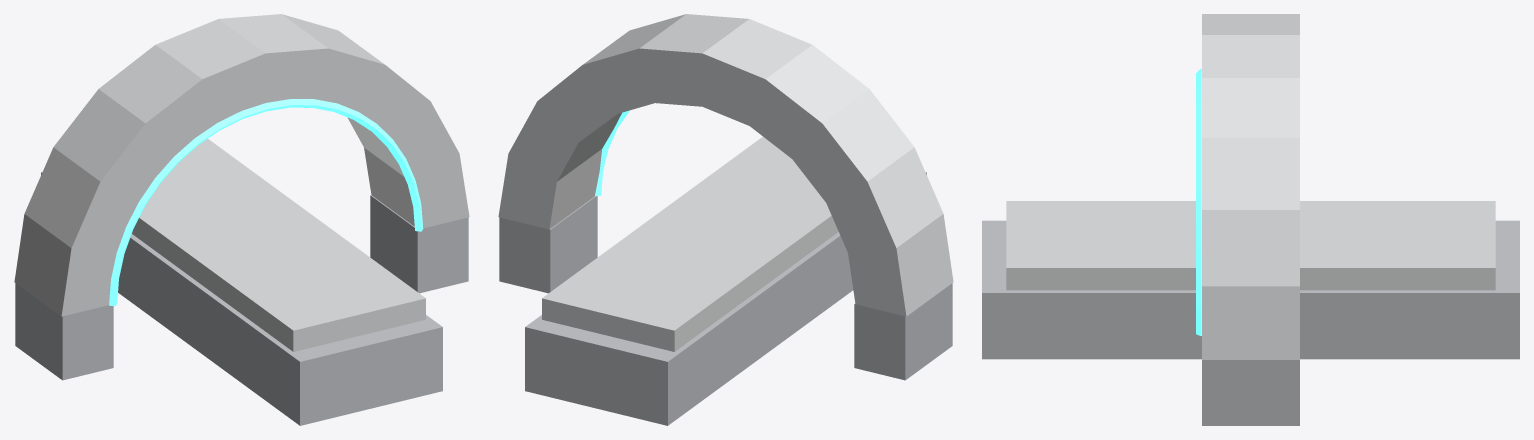
File: SM_Med_Scanner.glb
3 renders of one model, left to right at view 1: azimuth 30°, elevation 25°; view 2: azimuth 150°, elevation 25°; view 3: azimuth 270°, elevation 25°, orthographic. The views are drawn at different scales.
Parts seen in each view (by area): view 1: SM_Med_Scanner; view 2: SM_Med_Scanner; view 3: SM_Med_Scanner.
Part boxes in pixels (<box>): SM_Med_Scanner: <box>14,14,469,425</box>; SM_Med_Scanner: <box>498,14,953,425</box>; SM_Med_Scanner: <box>982,14,1519,425</box>.
Size of the model in its own units: 2 by 1.3 by 2.2.
